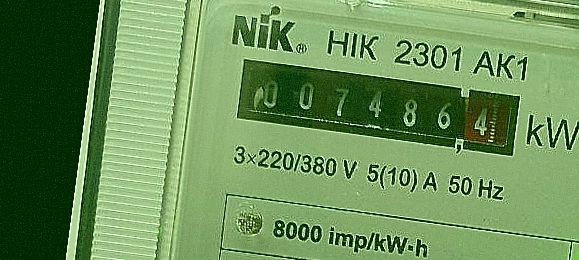0: (257, 75, 281, 111), (294, 78, 316, 113)
4: (363, 84, 385, 121), (469, 103, 491, 139)
6: (433, 98, 456, 132)
7: (326, 83, 353, 119)
8: (399, 95, 420, 132)
screen: (224, 46, 531, 169)
